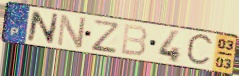4: (157, 29, 183, 64)
B: (119, 23, 150, 58)
C: (184, 32, 216, 68)
N: (25, 9, 60, 46), (55, 12, 89, 50)
Z: (90, 17, 120, 54)
